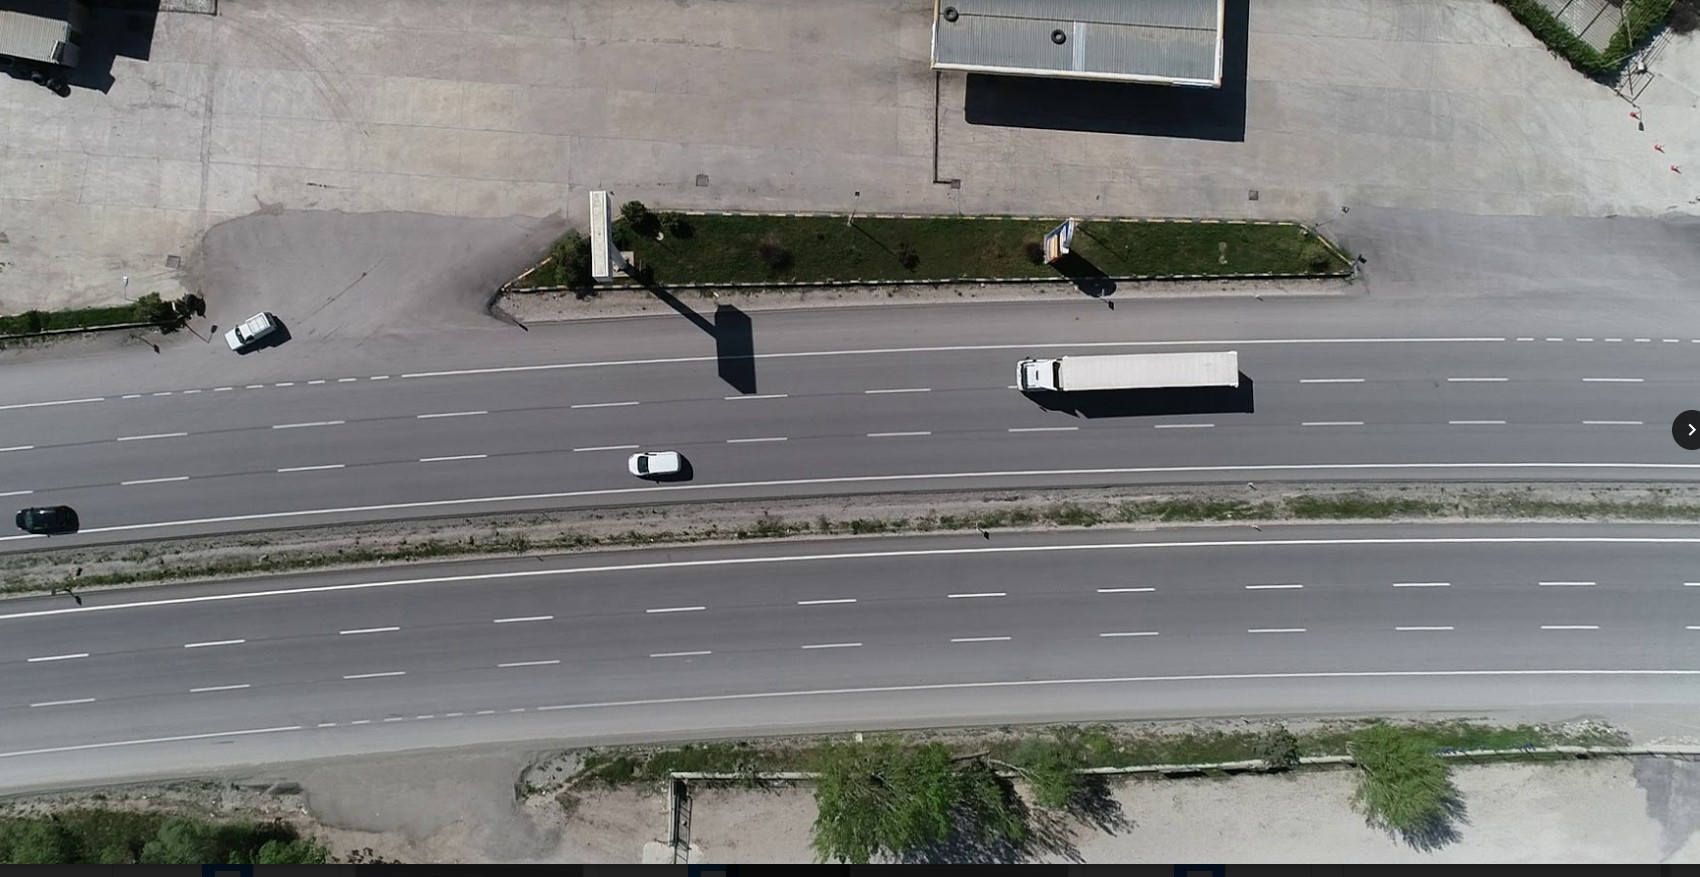araba: (16, 503, 83, 535), (225, 310, 275, 345), (625, 450, 683, 477)
kamyon: (1019, 351, 1241, 395)
